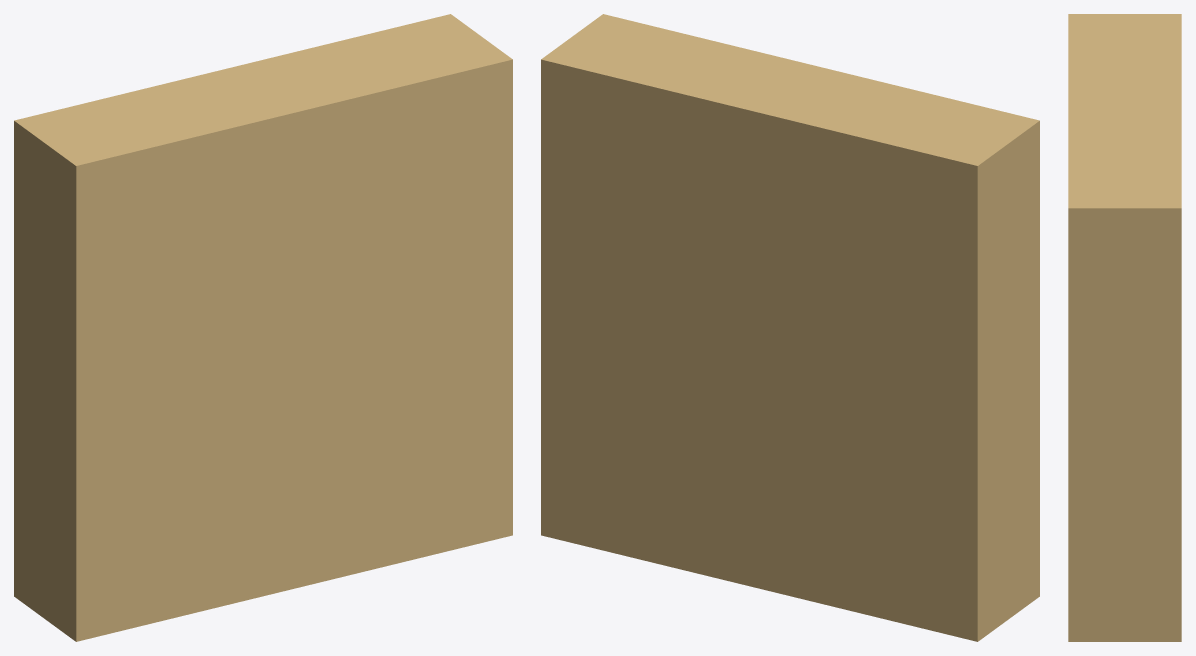
3 views of the same model, side by side, from view 1: azimuth 30°, elevation 25°; view 2: azimuth 150°, elevation 25°; view 3: azimuth 270°, elevation 25° (orthographic). The views are drawn at different scales.
Visible parts, largest first — view 1: GF-L10-BLK-EDGE-REAR-025; view 2: GF-L10-BLK-EDGE-REAR-025; view 3: GF-L10-BLK-EDGE-REAR-025.
Boxes of the visible parts, x1,y1,x2,y2 form: GF-L10-BLK-EDGE-REAR-025: (14, 14, 512, 641); GF-L10-BLK-EDGE-REAR-025: (541, 14, 1039, 641); GF-L10-BLK-EDGE-REAR-025: (1068, 14, 1181, 641).
Size of the model in its own units: 0.1825 by 0.19 by 0.045.
